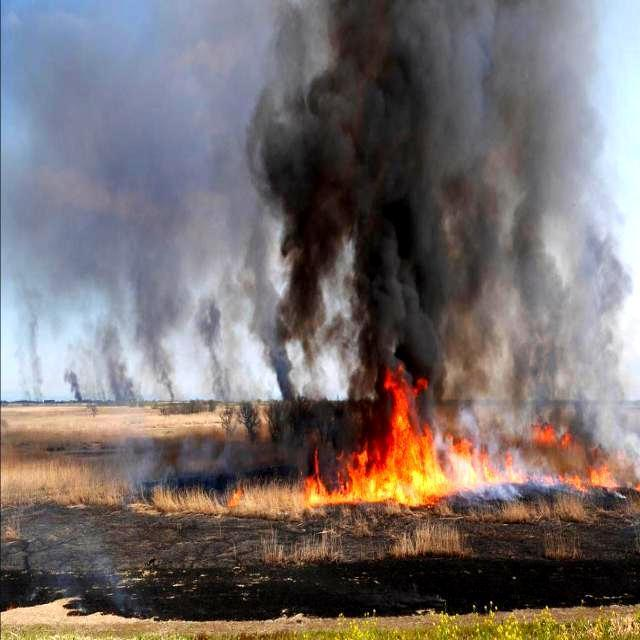Fire: (309, 386, 486, 506), (555, 460, 623, 495)
Smoke: (0, 0, 287, 550), (439, 0, 640, 437)
